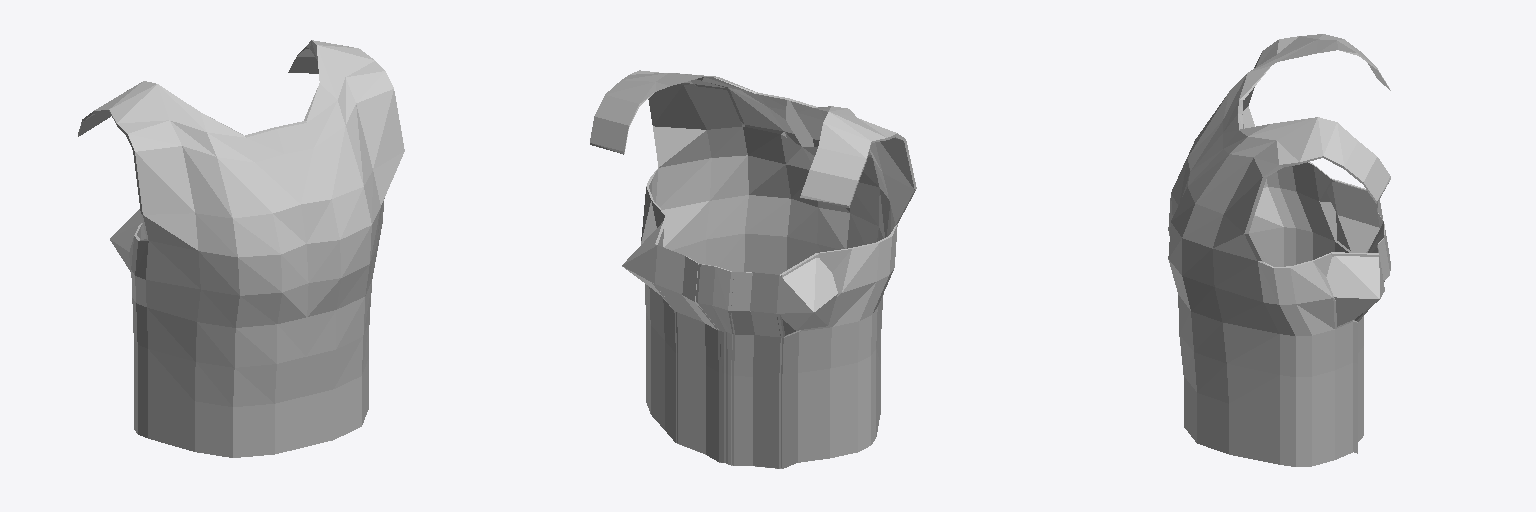
File: breastplate.obj
3 renders of one model, left to right at view 1: azimuth 30°, elevation 25°; view 2: azimuth 150°, elevation 25°; view 3: azimuth 270°, elevation 25°, orthographic.
Visible parts, largest first — view 1: Plane; view 2: Plane; view 3: Plane.
Part boxes in pixels (x1,y1,x2,y2): Plane: (78, 40, 404, 457); Plane: (590, 70, 916, 468); Plane: (1168, 34, 1390, 466).
Bounding box in the file's own units: 0.4589 × 0.591 × 0.3365.